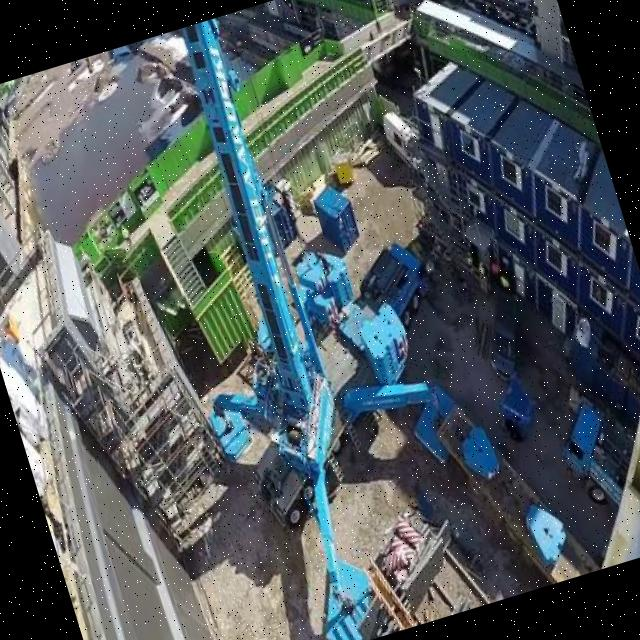Mobile Crane: (96, 0, 503, 640)
